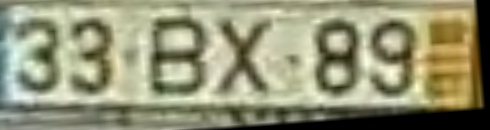3: (9, 15, 64, 97), (66, 16, 117, 98)
8: (309, 17, 365, 100)
9: (365, 17, 420, 102)
B: (147, 14, 209, 97)
X: (213, 19, 273, 96)
